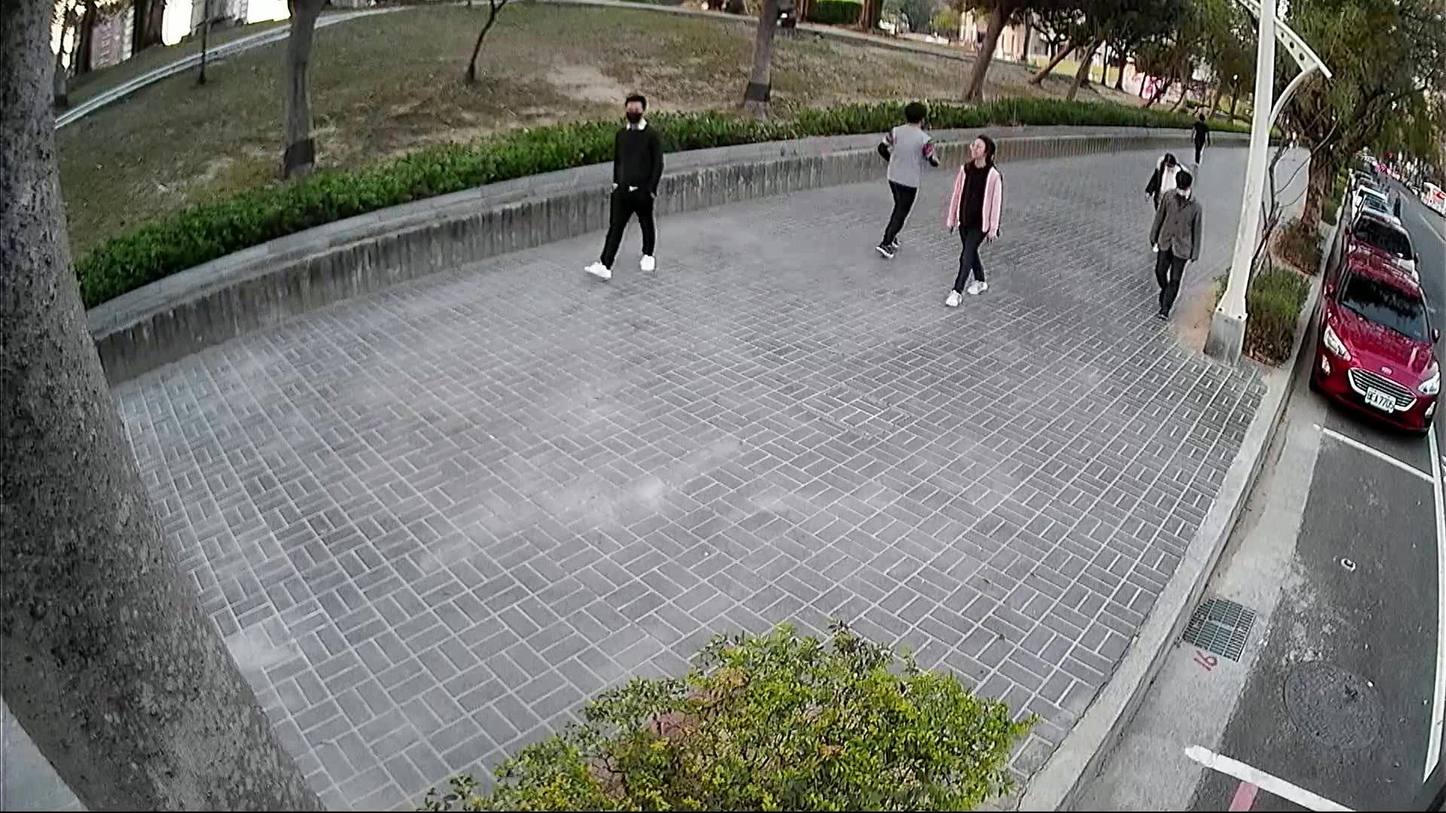person: (578, 87, 666, 282), (869, 93, 945, 266), (938, 129, 1003, 311), (1144, 168, 1203, 321), (1138, 145, 1191, 209), (1184, 105, 1214, 168)
